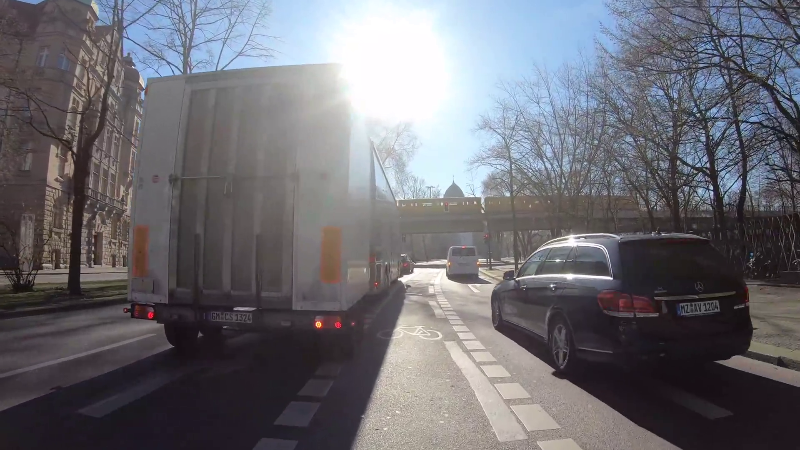Plate: (671, 299, 724, 318), (204, 310, 253, 325)
